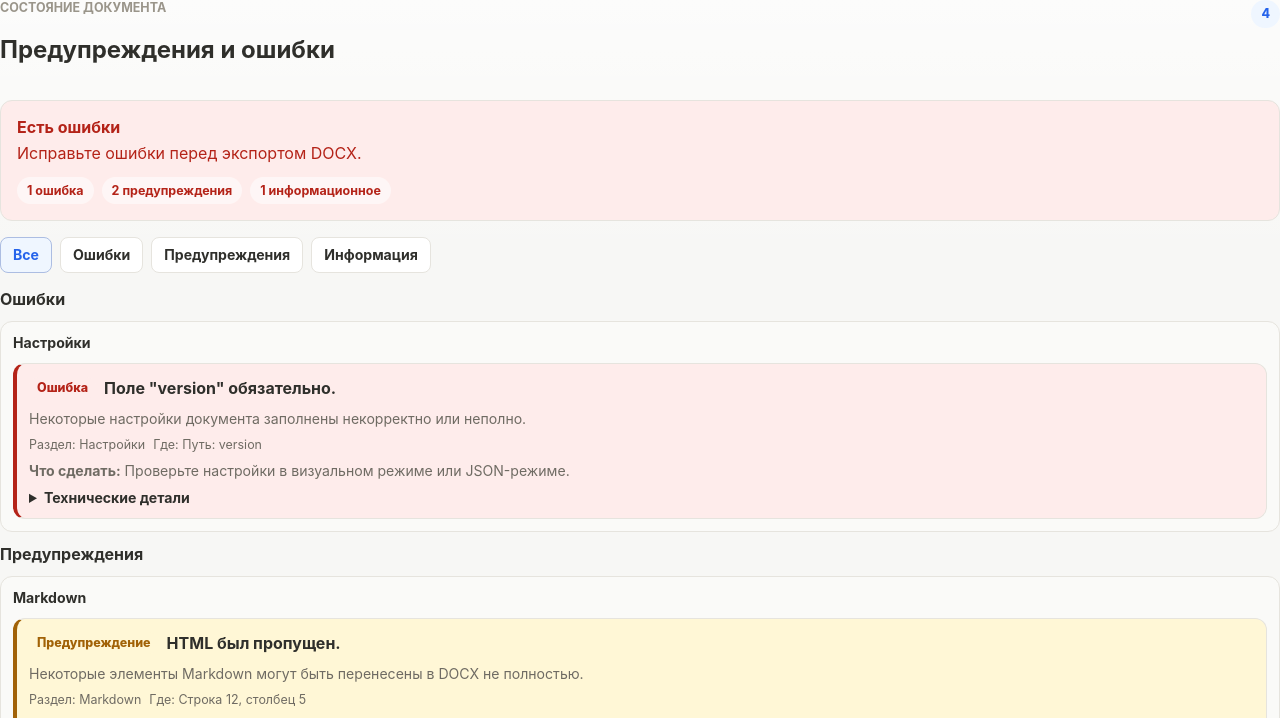
DiagnosticsPanel › filters by errors
Click the button "Ошибки" at coordinates (102, 255), box left=60, top=237, right=143, bottom=273
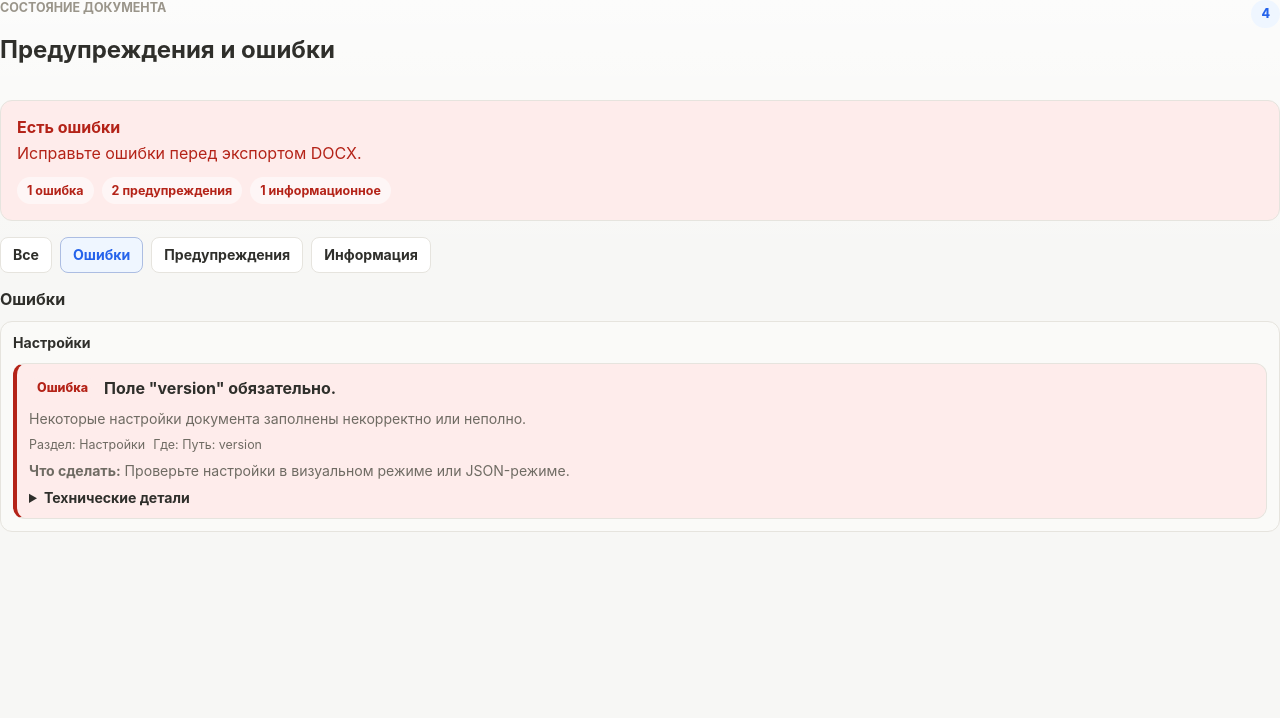
Expected: the text "Поле \"version\" обязательно." is shown, left=104, top=376, right=336, bottom=400
Expected: the text "HTML был пропущен." is gone
